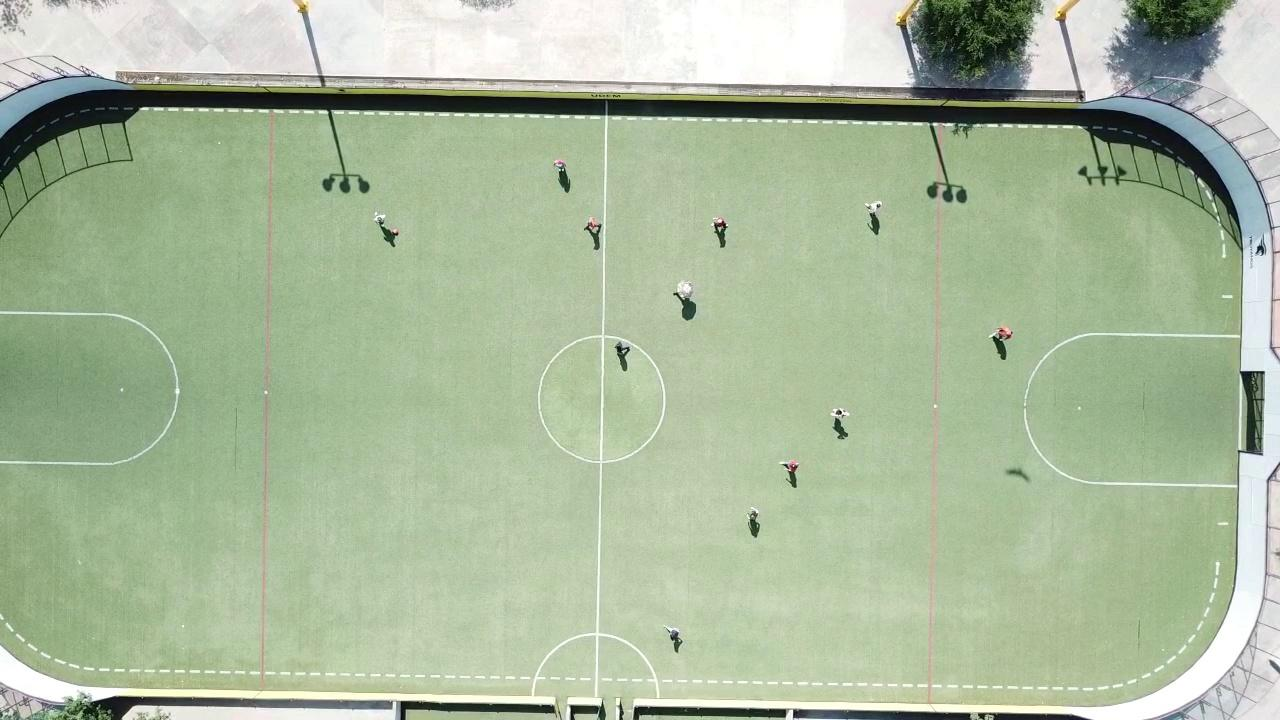ball: (392, 228, 398, 234)
player: (989, 325, 1012, 341), (675, 281, 693, 300), (584, 216, 601, 234), (663, 625, 679, 641), (615, 339, 630, 356), (864, 200, 882, 214), (779, 460, 799, 472), (830, 408, 849, 419), (713, 216, 726, 232), (374, 211, 385, 225), (748, 507, 758, 522), (554, 159, 565, 172)
